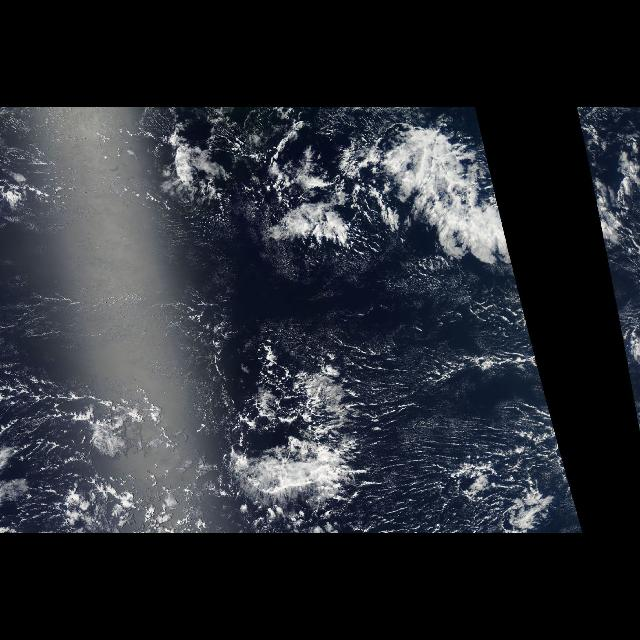Gravel: (146, 115, 398, 277), (190, 310, 352, 522)
Sugar: (363, 273, 475, 525)
